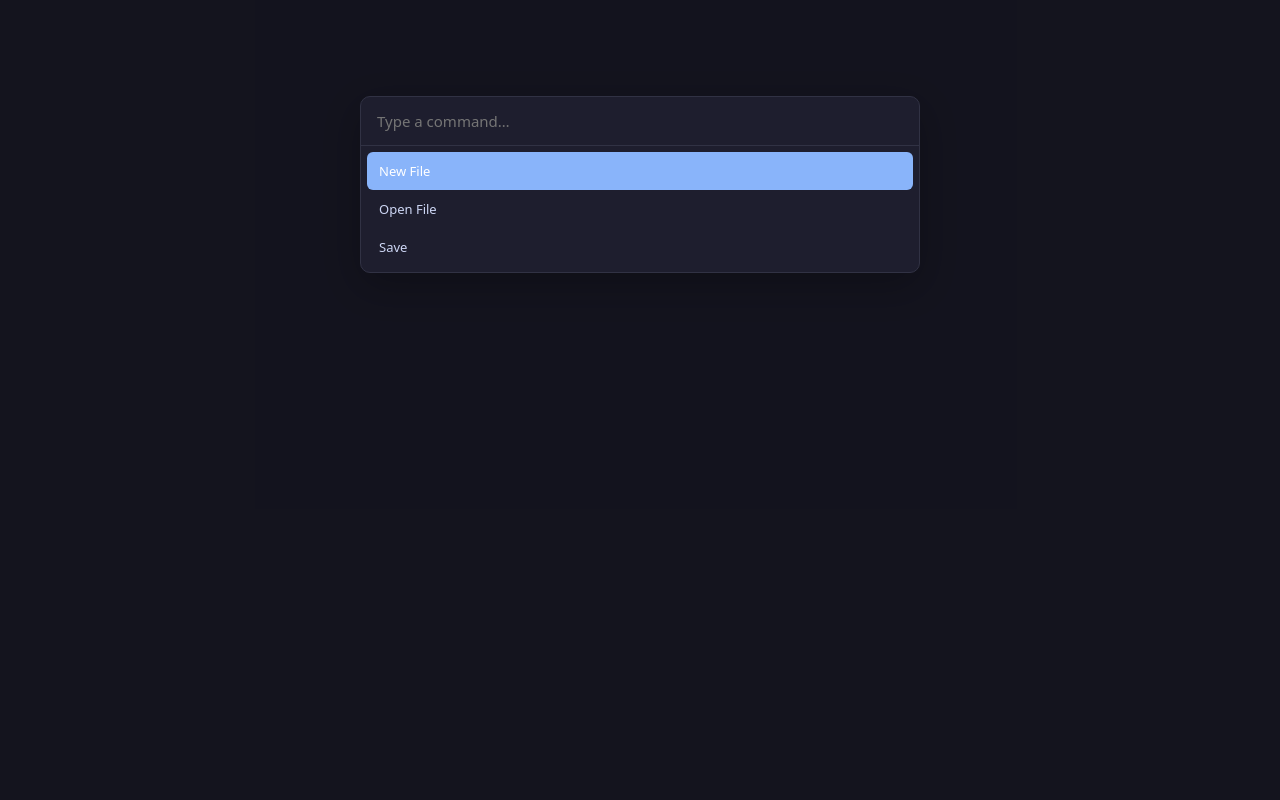
Test: CommandPalette › shows an empty-state message when nothing matches
This screenshot has width=1280, height=800.
Type "zzzzz" into the dropdown at [640, 122], box [361, 97, 919, 146]
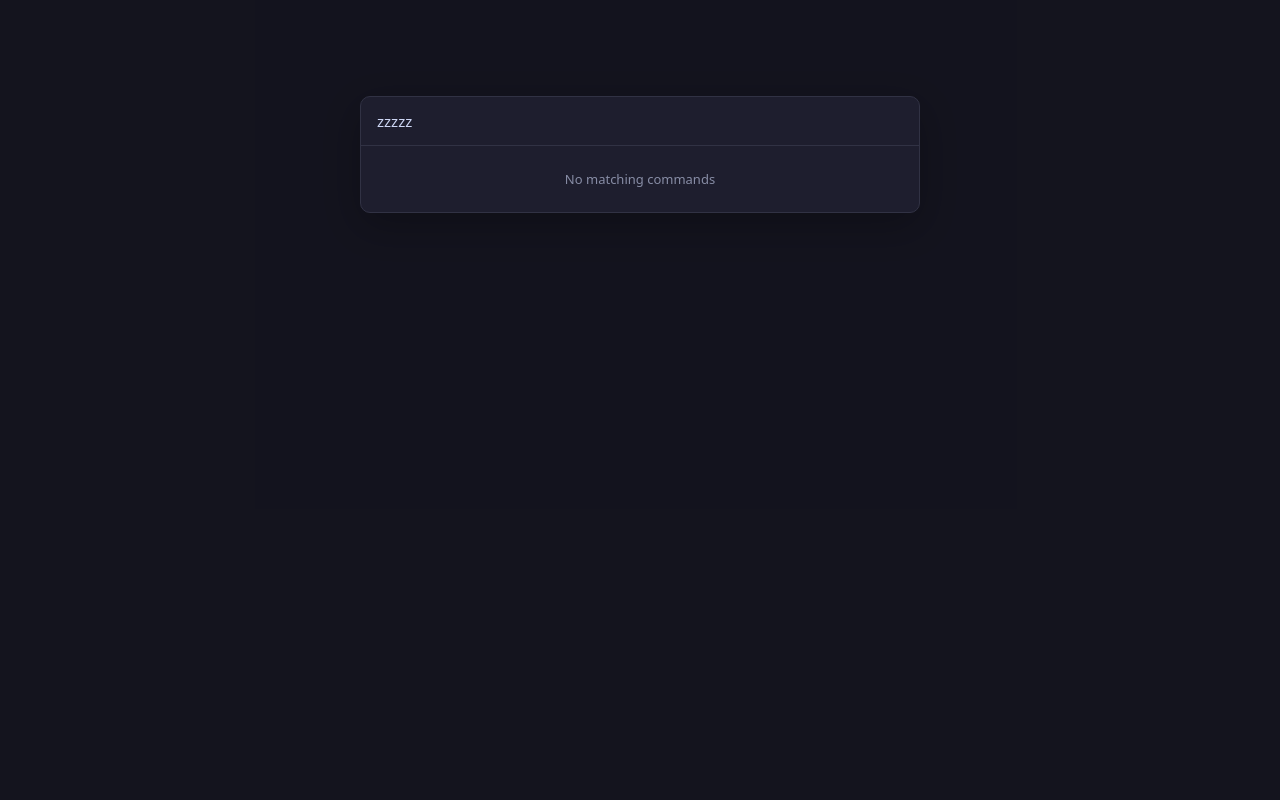
Now the list item "No matching commands" is shown, box [565, 170, 715, 188]
